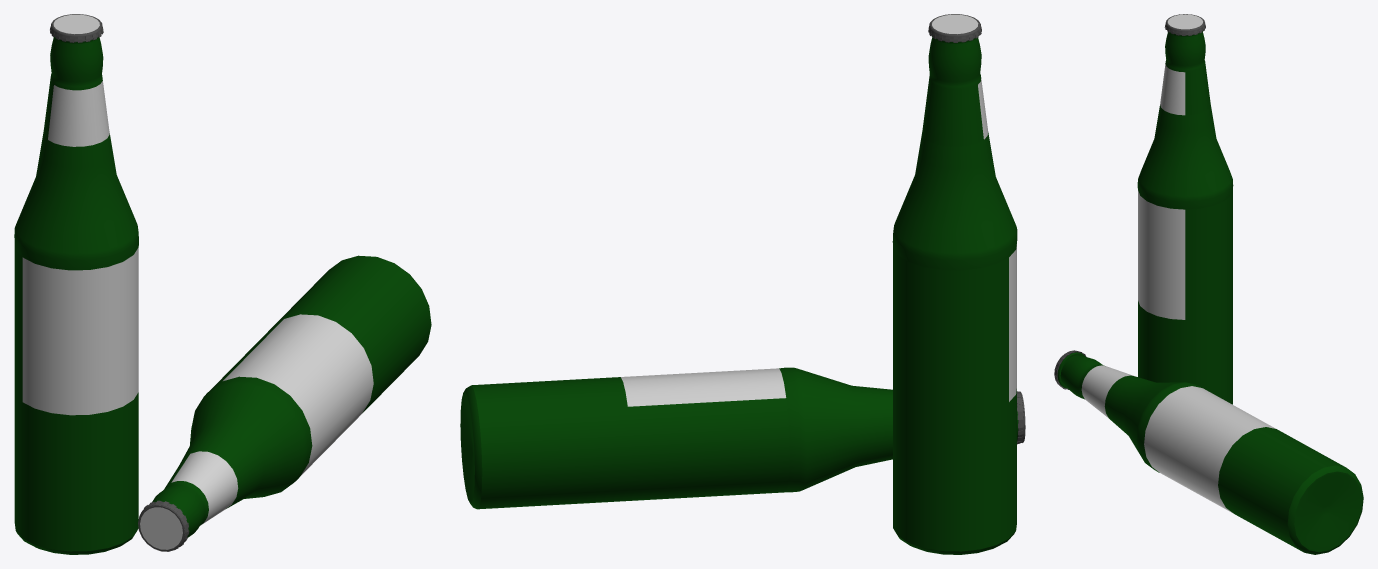
File: objBeer.obj
The picture shows the model from 3 angles, left to right: view 1: azimuth 30°, elevation 25°; view 2: azimuth 150°, elevation 25°; view 3: azimuth 270°, elevation 25°; orthographic projection. The views are drawn at different scales.
Visible parts, largest first — view 1: beer, beer2; view 2: beer, beer2; view 3: beer, beer2.
Part boxes in pixels (<box>): beer: <box>14,14,138,554</box>; beer2: <box>138,255,431,551</box>; beer: <box>892,14,1017,554</box>; beer2: <box>460,367,1025,509</box>; beer: <box>1137,14,1233,404</box>; beer2: <box>1054,350,1363,554</box>.
Size of the model in its own units: 22.89 by 23.23 by 16.84.
